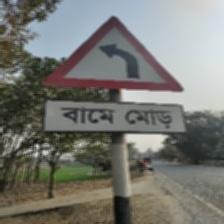Left-Turn: (39, 14, 188, 136)
